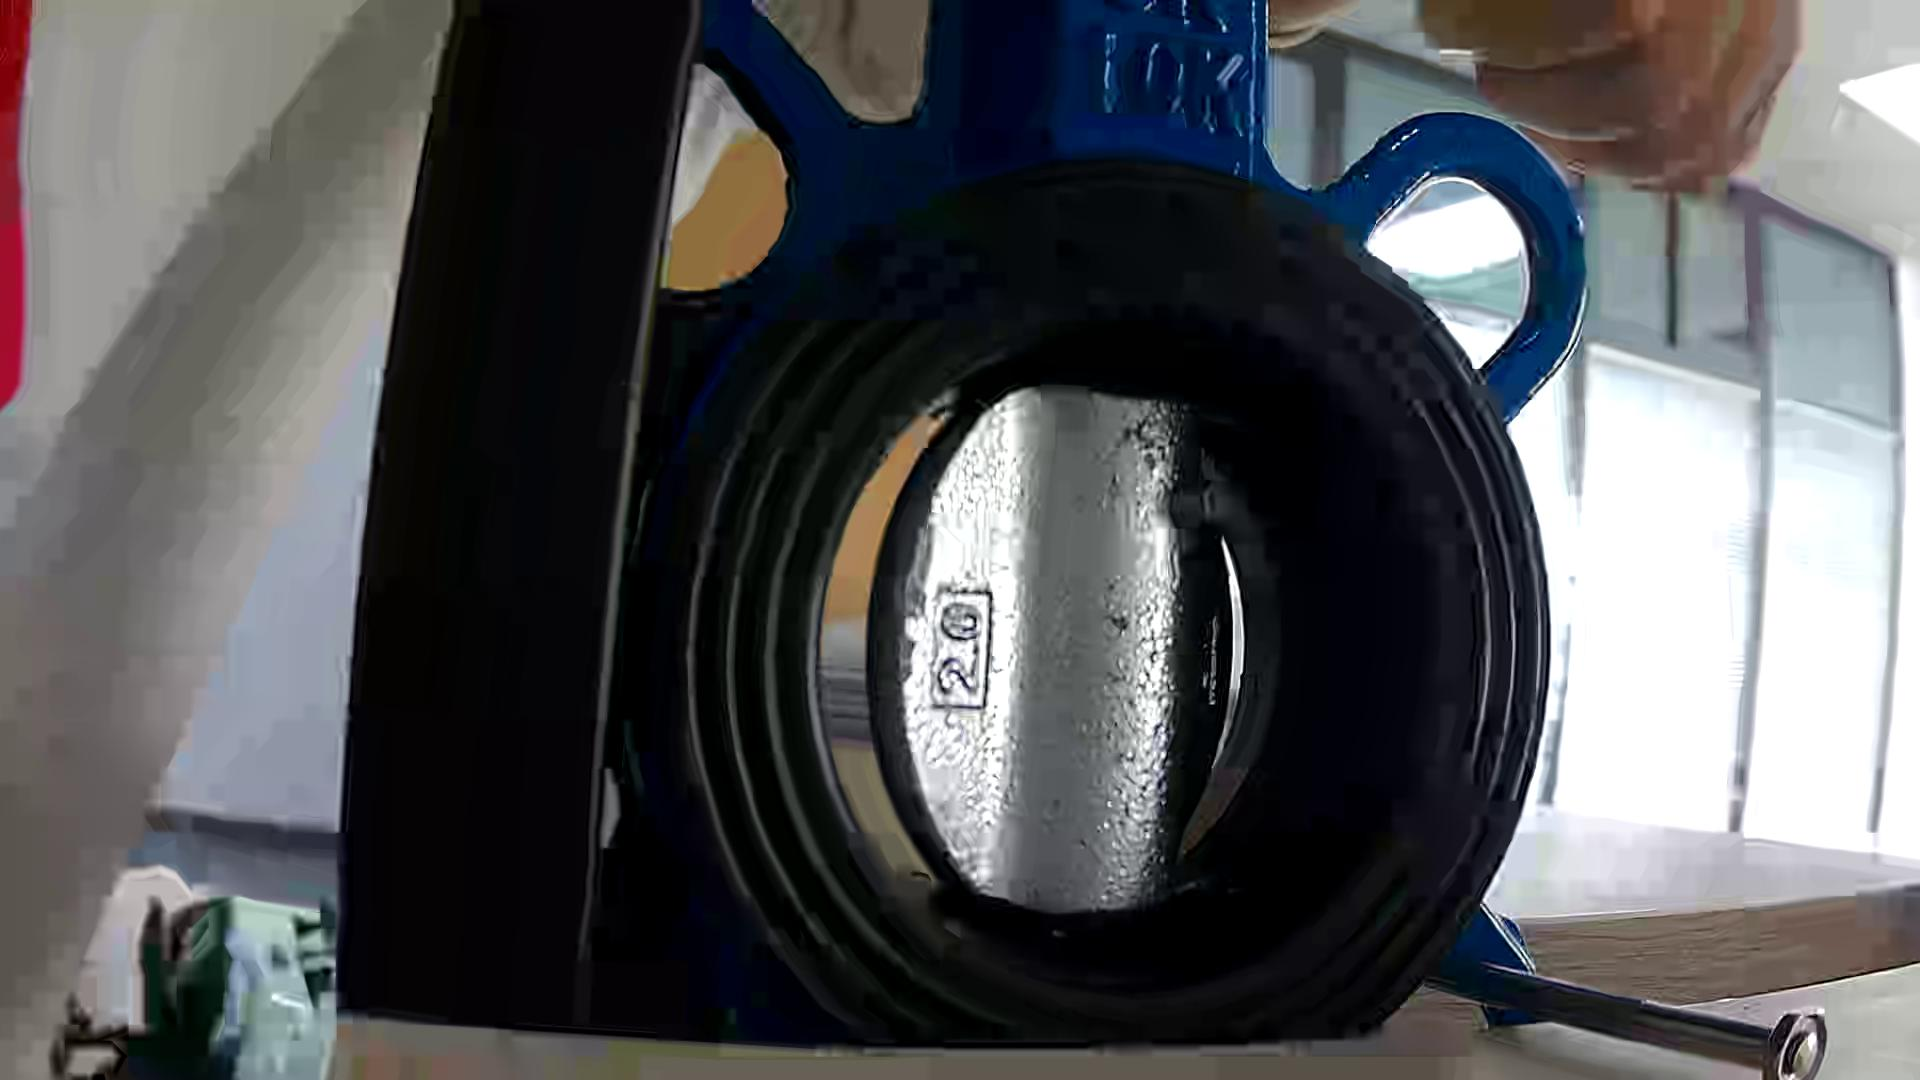valve: (866, 386, 1234, 915)
